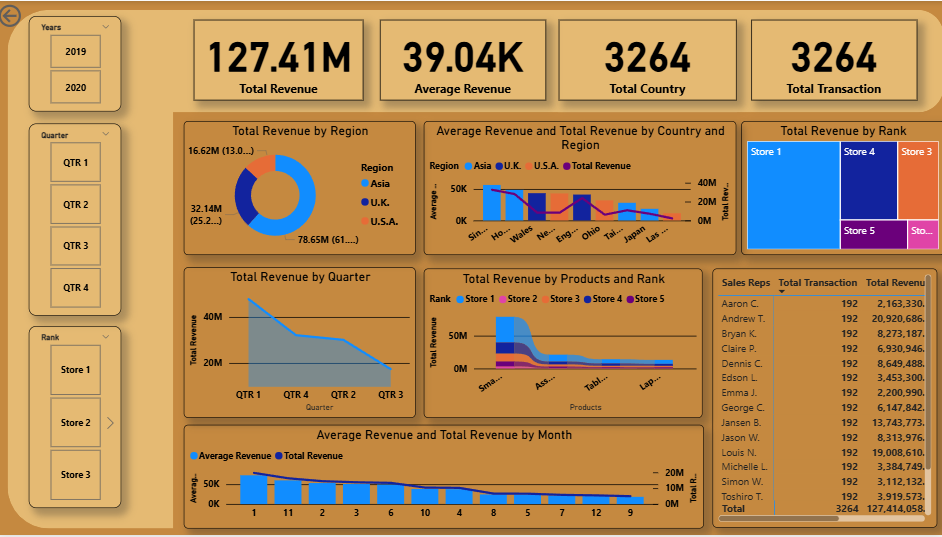

This screenshot's page, from the dashboard's own definition file:
{"tool":"powerbi","page":{"name":"Page 1","canvas":[1280,720],"ordinal":0},"visuals":[{"type":"shape","box":[16.5,11,223.7,699.8],"z":0},{"type":"shape","box":[240.1,11,1040.1,138.6],"z":1000},{"type":"card","fields":{"Values":["Measures (2).Total Revenue"]},"box":[267.6,26.1,229.2,108.4],"z":2000},{"type":"card","fields":{"Values":["Measures (2).Average Revenue"]},"box":[518.7,26.1,223.7,108.4],"z":3000},{"type":"card","fields":{"Values":["Measures (2).Total Country"]},"box":[760.2,26.1,240.1,108.4],"z":4000},{"type":"card","fields":{"Values":["Measures (2).Total Transaction"]},"box":[1019.6,26.1,223.7,108.4],"z":5000},{"type":"donutChart","fields":{"Category":["Sheet1.Region"],"Y":["Measures (2).Total Revenue"]},"box":[253.9,161.9,312.9,181.1],"z":6000},{"type":"lineStackedColumnComboChart","fields":{"Category":["Sheet1.Country"],"Y":["Measures (2).Average Revenue"],"Y2":["Measures (2).Total Revenue"],"Series":["Sheet1.Region"]},"box":[579.1,161.9,421.3,181.1],"z":7000},{"type":"treemap","fields":{"Group":["Sheet1.Rank"],"Values":["Measures (2).Total Revenue"]},"box":[1005.8,161.9,274.4,181.1],"z":8000},{"type":"areaChart","fields":{"Category":["Sheet1.Quarter"],"Y":["Measures (2).Total Revenue"]},"box":[253.9,359.5,312.9,203.1],"z":9000},{"type":"ribbonChart","fields":{"Category":["Sheet1.Products"],"Y":["Measures (2).Total Revenue"],"Series":["Sheet1.Rank"]},"box":[579.1,360.9,376,201.7],"z":10000},{"type":"pivotTable","fields":{"Rows":["Sheet1.Sales Reps"],"Values":["Measures (2).Total Transaction","Measures (2).Total Revenue","Measures (2).Average Revenue"]},"box":[967.4,360.9,303.3,349.9],"z":11000},{"type":"actionButton","box":[0,0,100,40],"z":12000},{"type":"lineStackedColumnComboChart","fields":{"Y":["Measures (2).Average Revenue"],"Y2":["Measures (2).Total Revenue"],"Category":["Sheet1.Month"]},"box":[253.9,570.8,701.2,140],"z":13000},{"type":"slicer","fields":{"Values":["Sheet1.Years"]},"box":[45.3,20.6,124.9,129],"z":14000},{"type":"slicer","fields":{"Values":["Sheet1.Quarter"]},"box":[45.3,166,124.9,259.3],"z":15000},{"type":"slicer","fields":{"Values":["Sheet1.Rank"]},"box":[45.3,437.7,124.9,245.6],"z":16000}]}

Visuals, with their boxes in screenshot pixels (x1, y1, x2, y2), scaled from the page's 1280x720 canvas onto the 942x537 screenshot:
shape: box=[12, 8, 177, 530]
shape: box=[177, 8, 941, 112]
card - Measures (2).Total Revenue: box=[197, 19, 366, 100]
card - Measures (2).Average Revenue: box=[382, 19, 546, 100]
card - Measures (2).Total Country: box=[559, 19, 736, 100]
card - Measures (2).Total Transaction: box=[750, 19, 915, 100]
donutChart - Sheet1.Region x Measures (2).Total Revenue: box=[187, 121, 417, 256]
lineStackedColumnComboChart - Sheet1.Country x Measures (2).Average Revenue: box=[426, 121, 736, 256]
treemap - Sheet1.Rank x Measures (2).Total Revenue: box=[740, 121, 941, 256]
areaChart - Sheet1.Quarter x Measures (2).Total Revenue: box=[187, 268, 417, 420]
ribbonChart - Sheet1.Products x Measures (2).Total Revenue: box=[426, 269, 703, 420]
pivotTable - Sheet1.Sales Reps x Measures (2).Total Transaction: box=[712, 269, 935, 530]
actionButton: box=[0, 0, 74, 30]
lineStackedColumnComboChart - Measures (2).Average Revenue x Measures (2).Total Revenue: box=[187, 426, 703, 530]
slicer - Sheet1.Years: box=[33, 15, 125, 112]
slicer - Sheet1.Quarter: box=[33, 124, 125, 317]
slicer - Sheet1.Rank: box=[33, 326, 125, 510]
